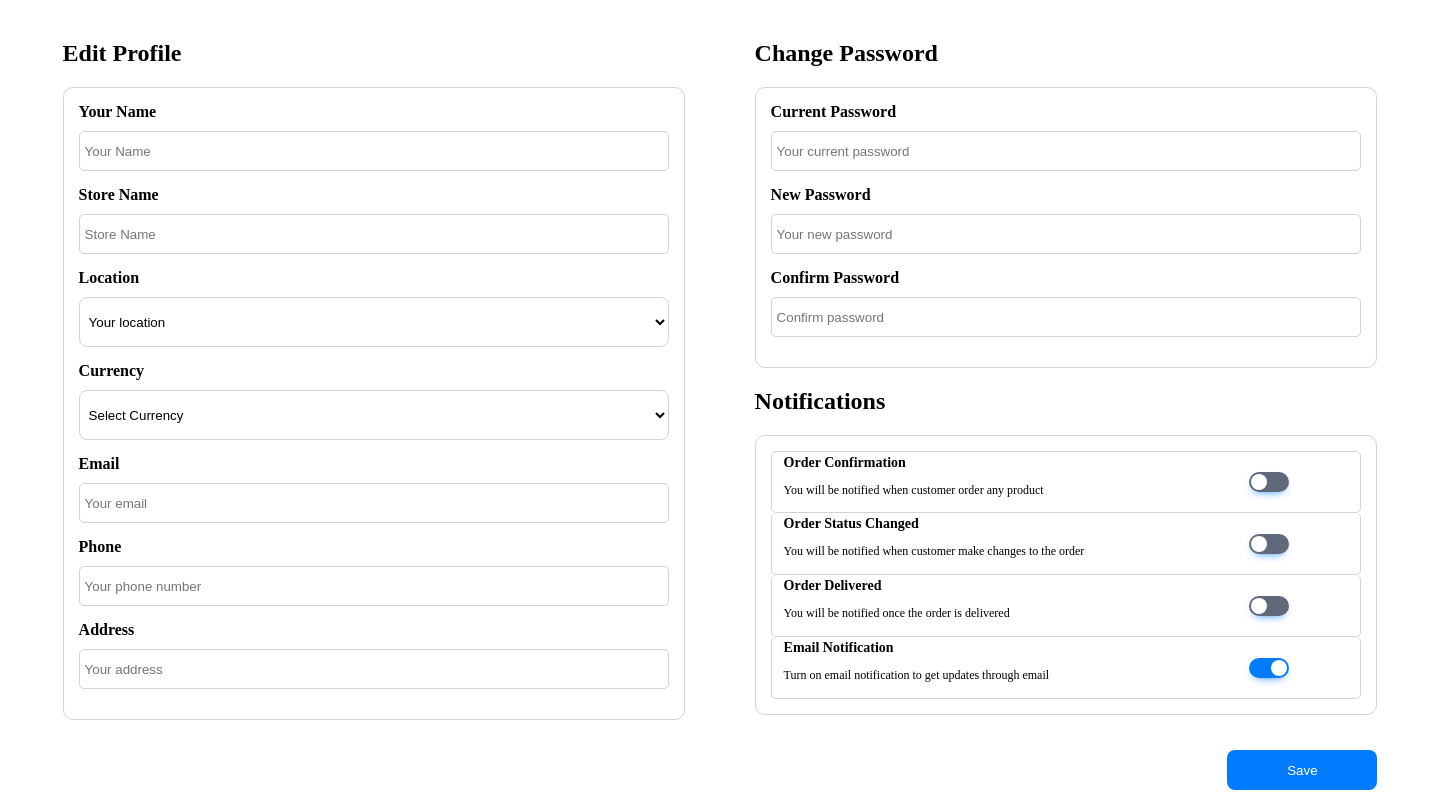
Edit profile form tests › Edit profile fieldset tests › should show errors near required fields on submit if at least 1 field was touched
Type "123" into the field with test id "user-name" at (374, 151), box 79,131 -> 669,171
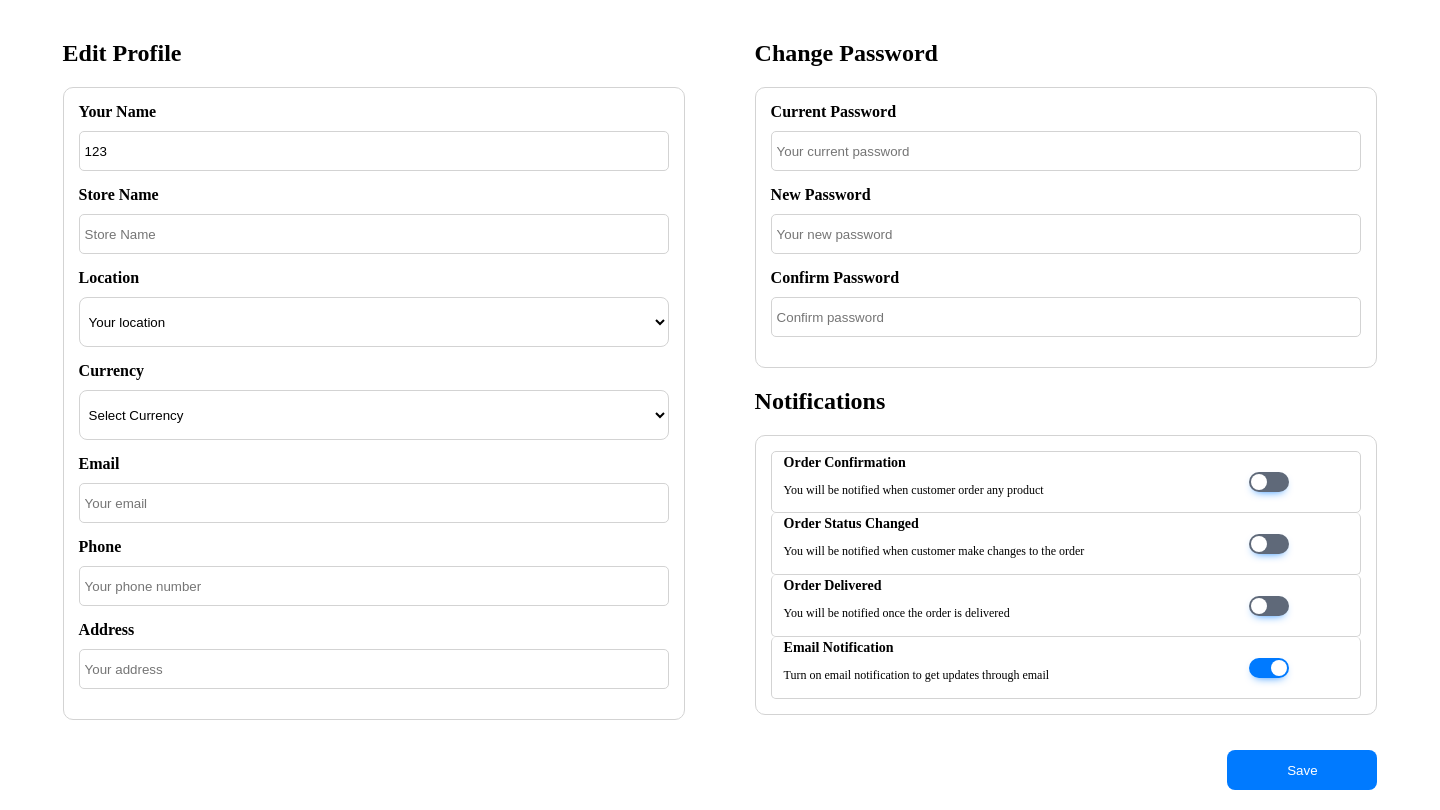
Submit the form from the button with test id "submit-button", box 1227,750 -> 1377,790
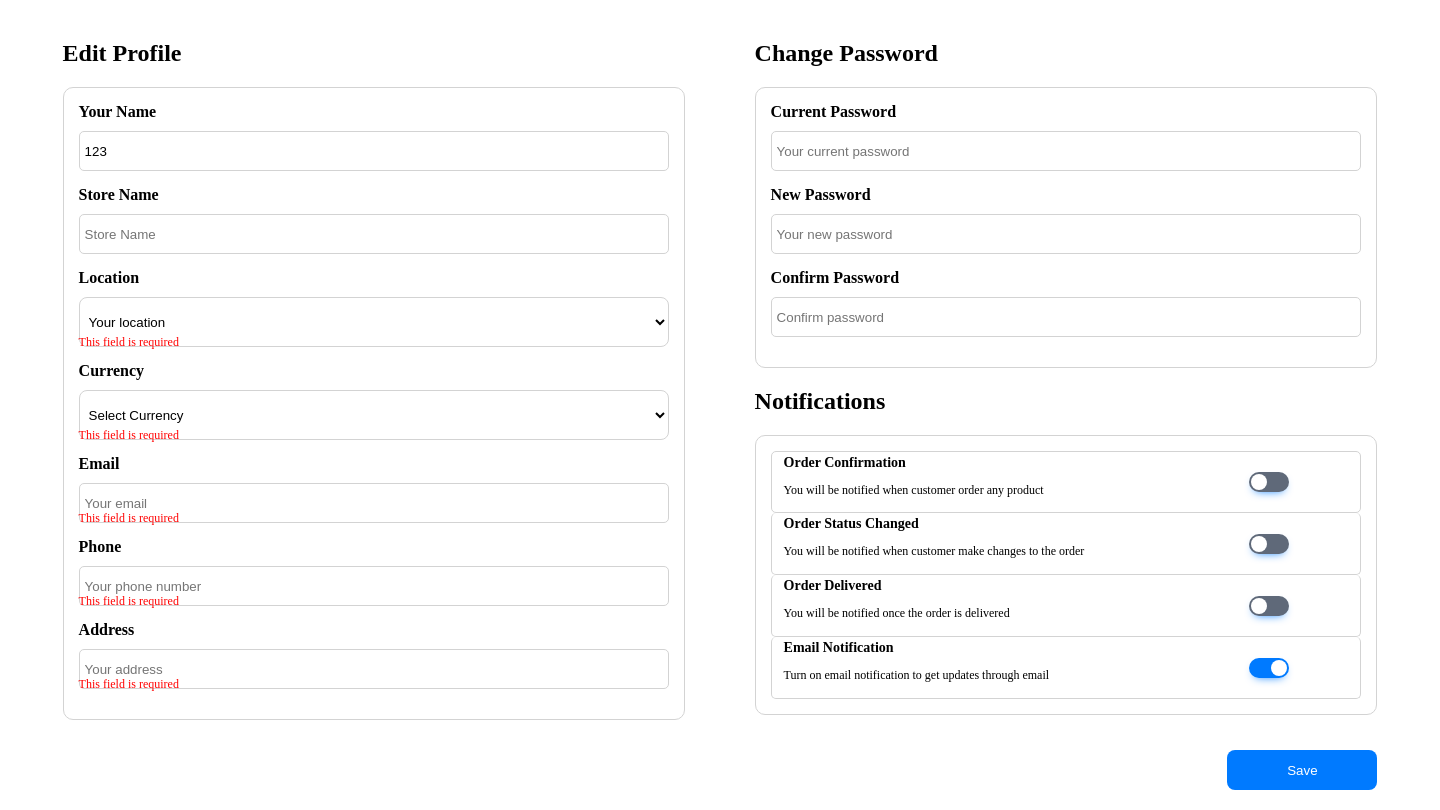
Check: the text "This field is required" is shown 5 times, box 79,335 -> 179,350; 79,428 -> 179,443; 79,511 -> 179,526; 79,594 -> 179,609; 79,677 -> 179,692
